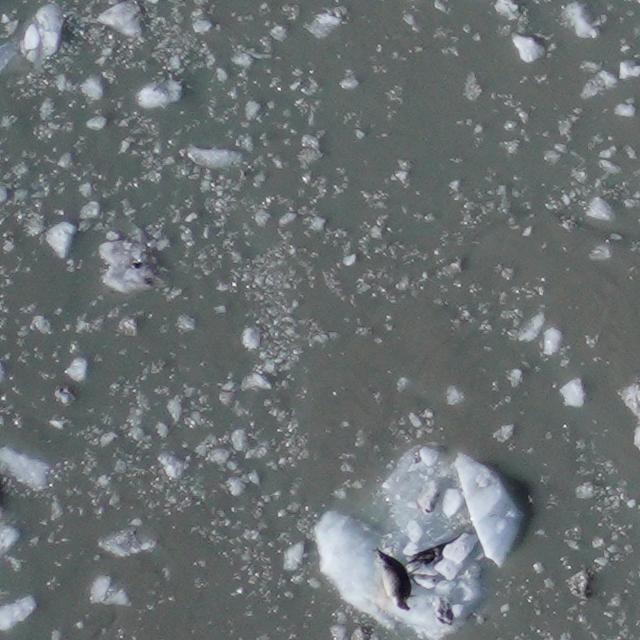seal: (370, 540, 420, 617)
